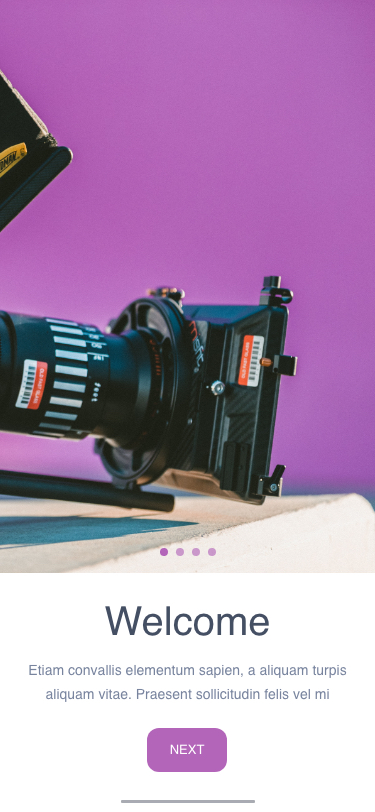Image: (1, 1, 375, 573)
PageIndicator: (159, 547, 218, 558)
Text: (29, 664, 347, 703), (105, 605, 270, 637)
TextButton: (147, 728, 228, 772)
